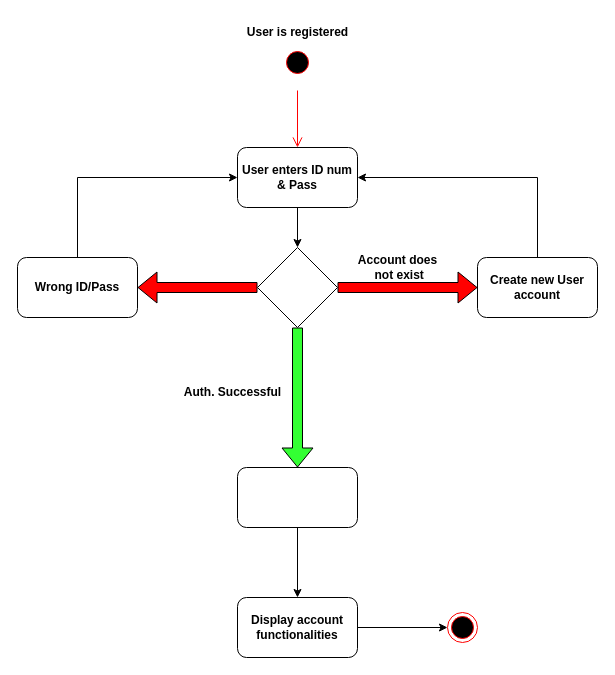
Image size: 615x675. Some labels were removed from this diagram. The shapes that lost their labels are listed below. From the top down, each one's box as (x1, y1, x2, y2) in pixels, then its label:
(256, 246, 338, 328): Authenticate
(236, 466, 358, 528): Successful Login
